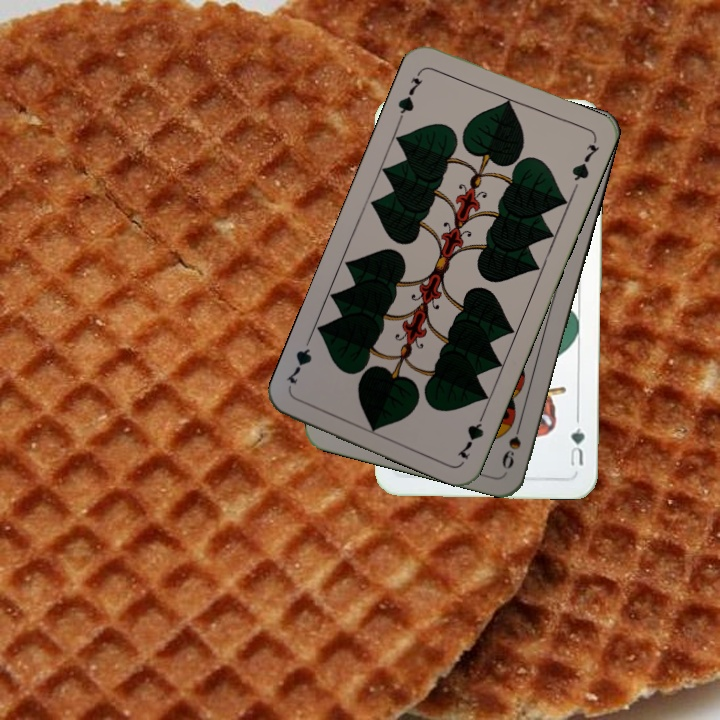G7: (453, 406, 489, 463), (394, 66, 426, 123)
GU: (566, 414, 587, 469)
S9: (498, 414, 525, 472)
